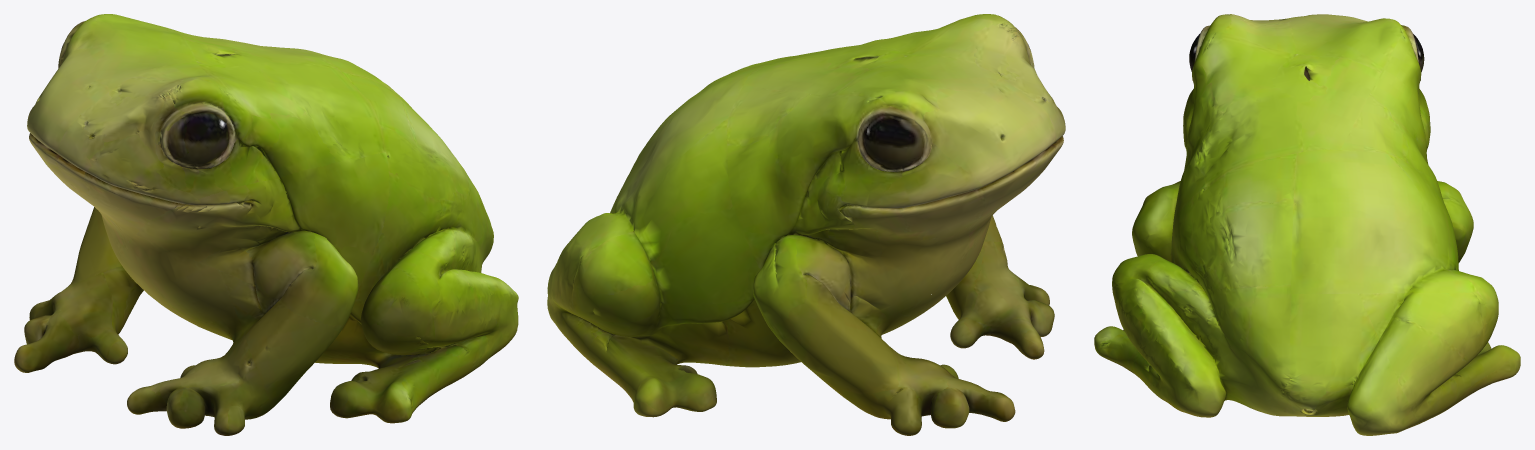
File: tree-frog.glb
3 renders of one model, left to right at view 1: azimuth 30°, elevation 25°; view 2: azimuth 150°, elevation 25°; view 3: azimuth 270°, elevation 25°, orthographic. The views are drawn at different scales.
Visible parts, largest first — view 1: tripo_node_20db48ee-102e-4662-816e-90f452ea82d8; view 2: tripo_node_20db48ee-102e-4662-816e-90f452ea82d8; view 3: tripo_node_20db48ee-102e-4662-816e-90f452ea82d8.
Part boxes in pixels (x1,y1,x2,y2): tripo_node_20db48ee-102e-4662-816e-90f452ea82d8: (14,14,518,435); tripo_node_20db48ee-102e-4662-816e-90f452ea82d8: (547,14,1065,435); tripo_node_20db48ee-102e-4662-816e-90f452ea82d8: (1094,14,1520,435).
Size of the model in its own units: 0.9792 by 0.6669 by 0.9147.
1 material, 1 textured.
